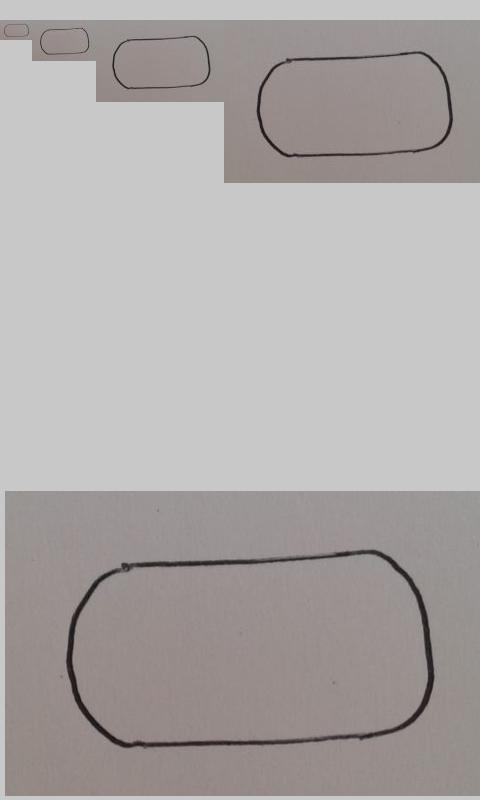chip: (65, 547, 437, 750), (256, 51, 453, 159), (112, 35, 211, 90), (40, 27, 90, 56), (4, 23, 30, 38)
